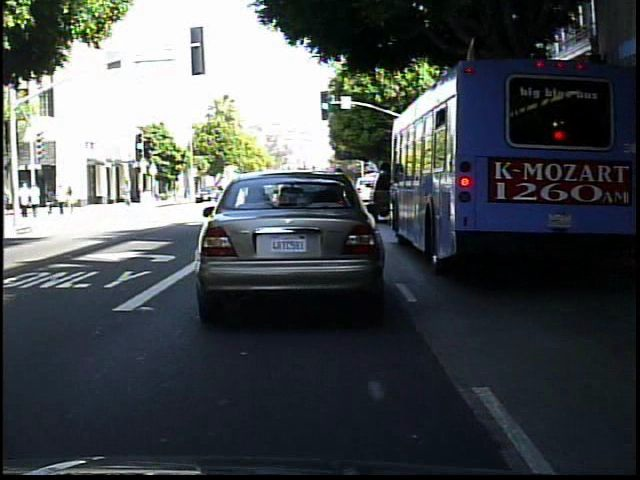person: (64, 177, 81, 216), (16, 180, 32, 219), (119, 176, 137, 210), (30, 180, 45, 220), (55, 177, 70, 216), (45, 182, 60, 218)
